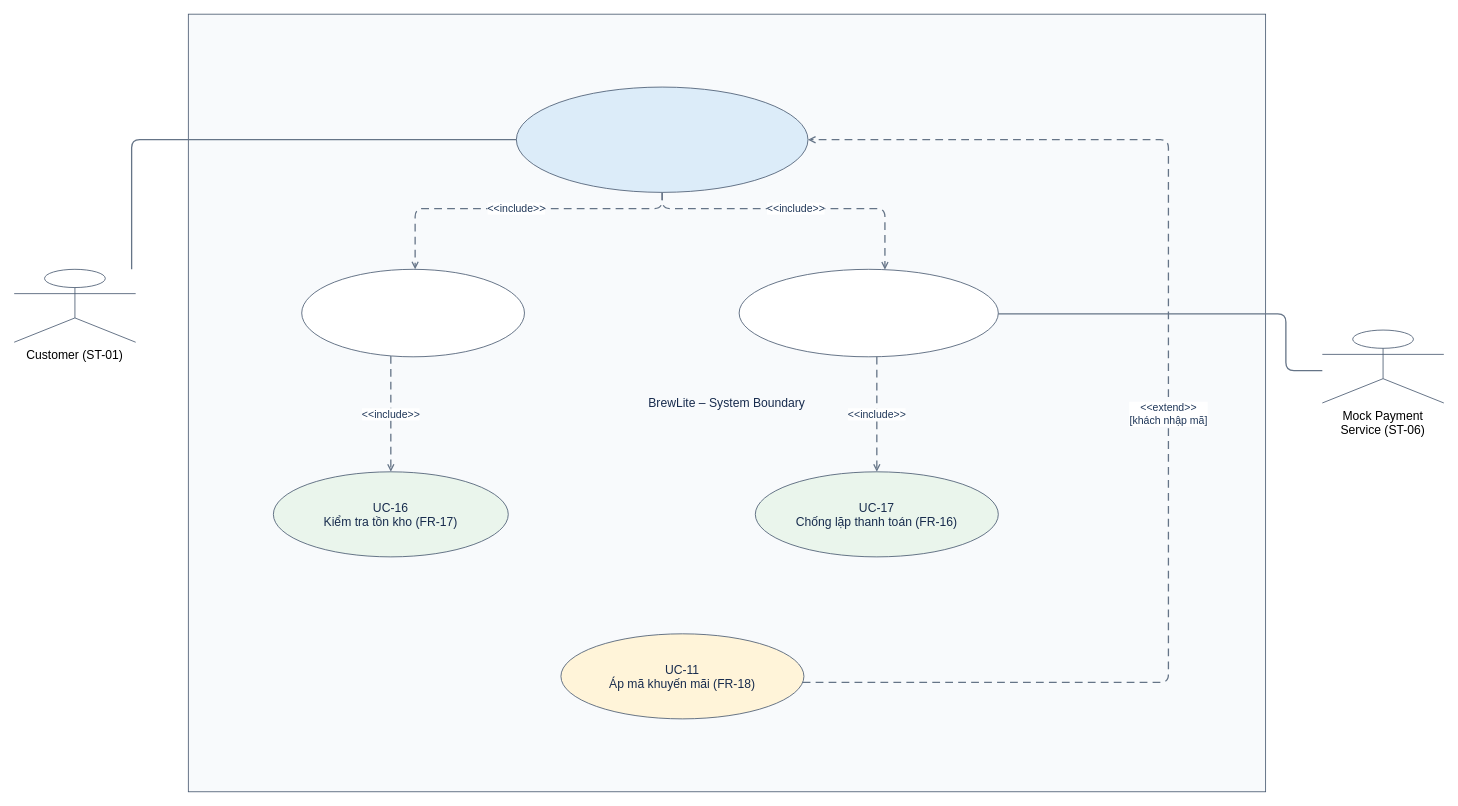
Some shapes in this 1458 by 806 pixel diagram are drawn without their labels. The shapes that lost their labels are listed below. From the top down, each one's centre as x and y in pixels, then its label:
pixel 662 139: UC-18 Đặt và thanh toán đơn hàng
pixel 412 313: UC-06 Tạo đơn (FR-09)
pixel 868 313: UC-07 Thanh toán mock (FR-10, FR-11)
